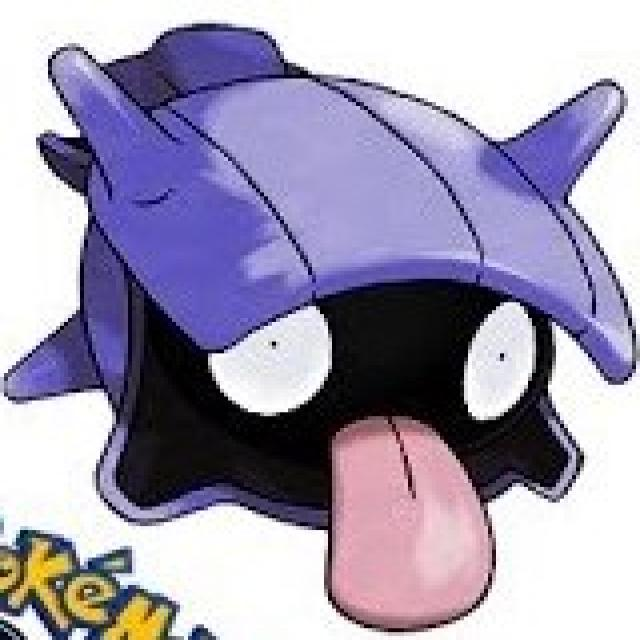Shellder: (23, 27, 633, 614)
